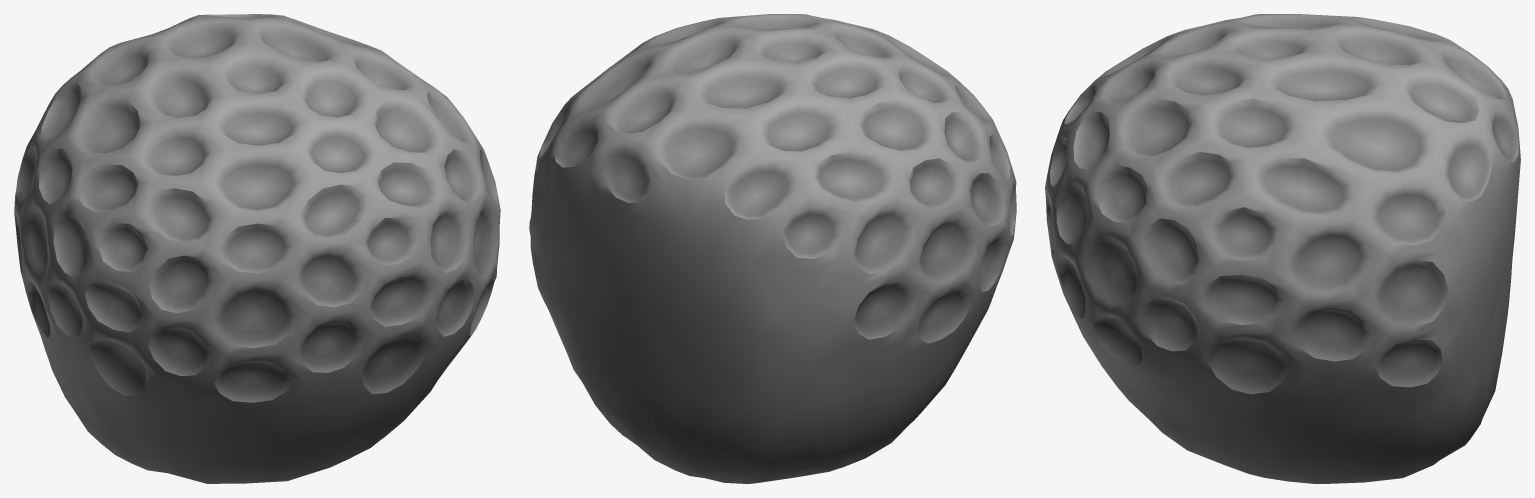
Rendered from orbicella-curta.glb.
3 views of the same model, side by side, from view 1: azimuth 30°, elevation 25°; view 2: azimuth 150°, elevation 25°; view 3: azimuth 270°, elevation 25° (orthographic). The views are drawn at different scales.
Visible parts, largest first — view 1: orbicella-curta; view 2: orbicella-curta; view 3: orbicella-curta.
Part boxes in pixels (x1,y1,x2,y2): orbicella-curta: (14,14,500,483); orbicella-curta: (529,14,1016,483); orbicella-curta: (1045,14,1520,483).
Bounding box in the file's own units: 0.0663 × 0.0592 × 0.0635.
Materials: 1 (1 with a texture image).
